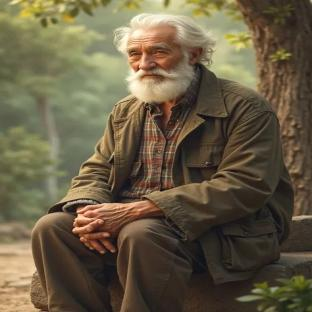Human: (33, 14, 294, 312)
